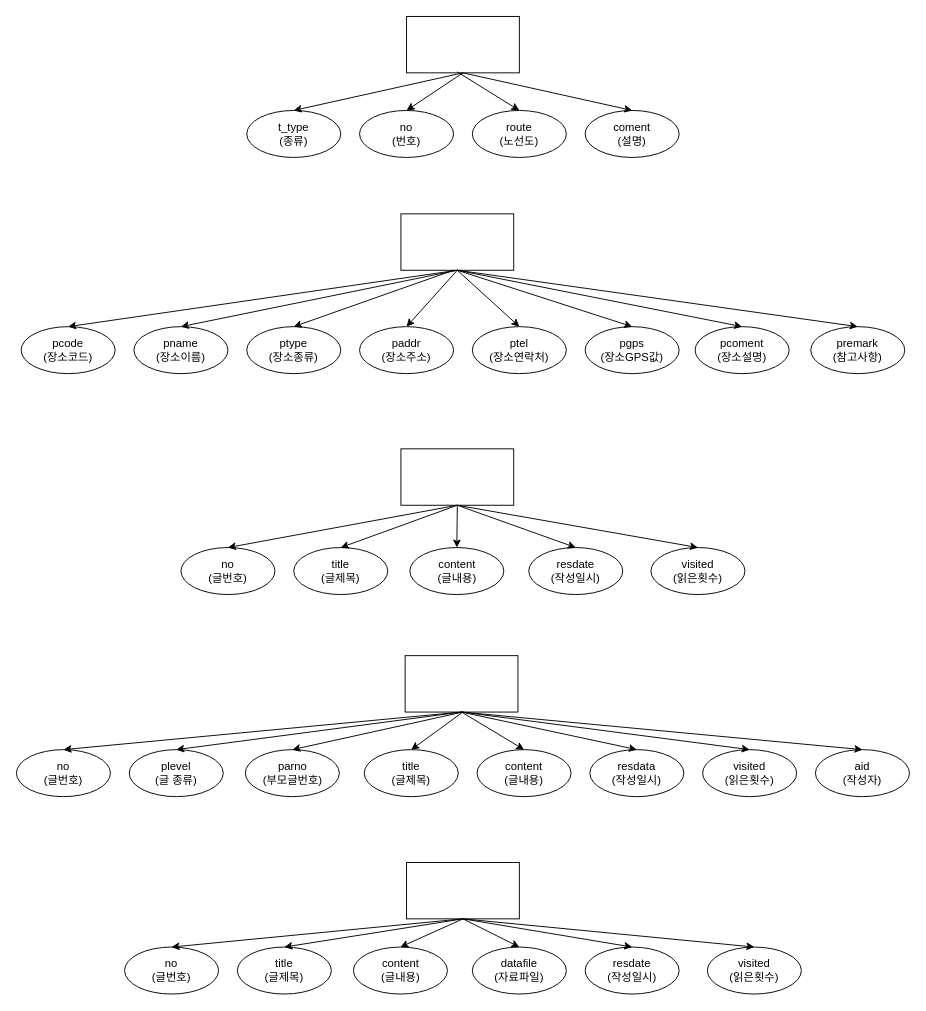
Image size: 926x1011. Some labels were removed from this diagram. Each missing label, with the centre of its shape:
"data (자료실)" goes at (462,890).
"guide (안내사항)" goes at (457,241).
"notice (공지사항)" goes at (457,476).
"qna (묻고 답하기)" goes at (461,683).
"traffic (교통편)" goes at (462,44).
